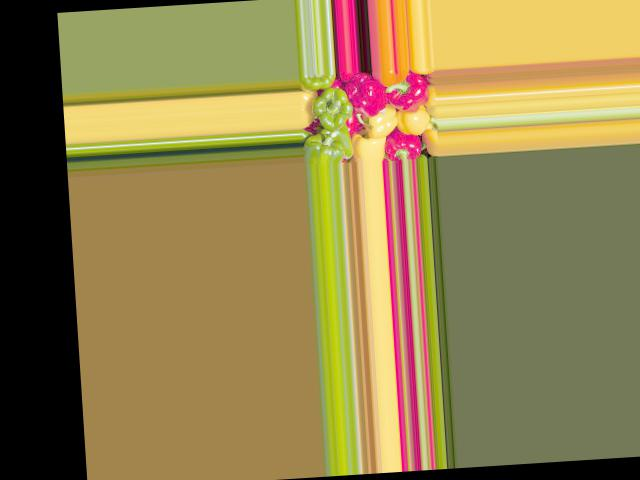bell_pepper: (298, 72, 337, 96)
